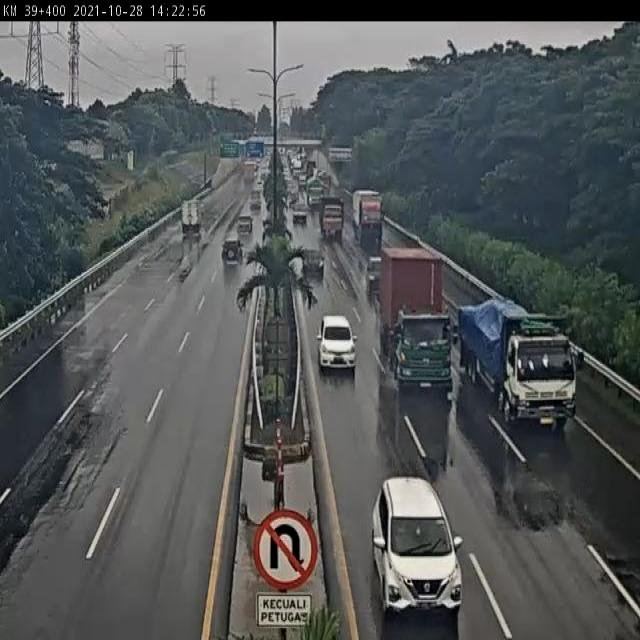Car: (368, 476, 466, 625), (316, 315, 366, 375), (302, 250, 327, 282), (221, 236, 244, 267), (291, 197, 307, 230), (236, 213, 254, 235)
Truck: (457, 302, 585, 432), (378, 249, 455, 402), (351, 192, 388, 247), (320, 196, 350, 245), (182, 192, 205, 238), (305, 176, 327, 208)
